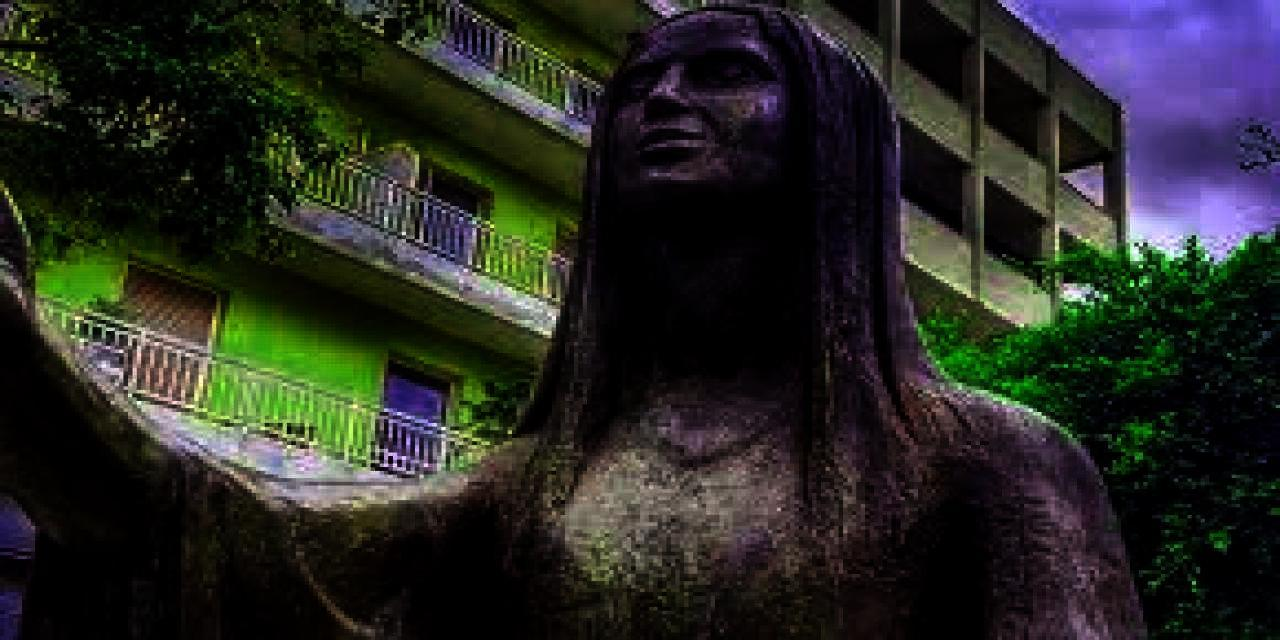Aretousa: (1, 1, 1149, 640)
